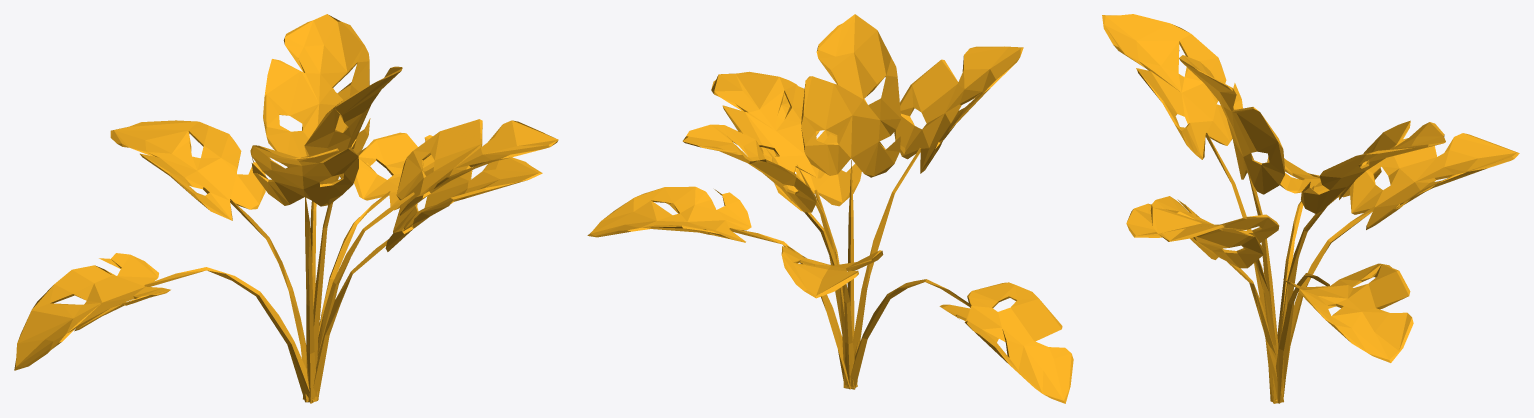
Rendered from ShrubPalmTropical02.fbx.
3 views of the same model, side by side, from view 1: azimuth 30°, elevation 25°; view 2: azimuth 150°, elevation 25°; view 3: azimuth 270°, elevation 25° (orthographic). The views are drawn at different scales.
Parts seen in each view (by area): view 1: ShrubPalmTropical02_LOD0; view 2: ShrubPalmTropical02_LOD0; view 3: ShrubPalmTropical02_LOD0.
Boxes of the visible parts, x1,y1,x2,y2 form: ShrubPalmTropical02_LOD0: [14, 14, 558, 403]; ShrubPalmTropical02_LOD0: [587, 14, 1073, 403]; ShrubPalmTropical02_LOD0: [1102, 14, 1519, 403].
Size of what is drawn, in the model's own units: 173 by 120 by 124.
